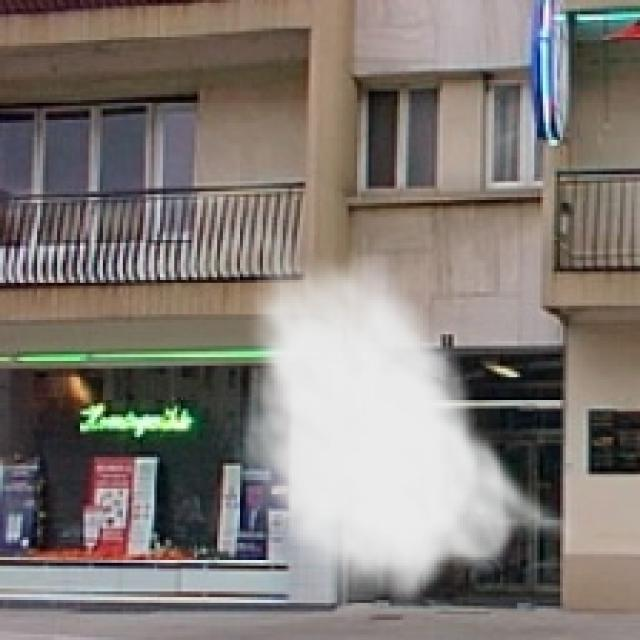smoke: (231, 234, 583, 617)
